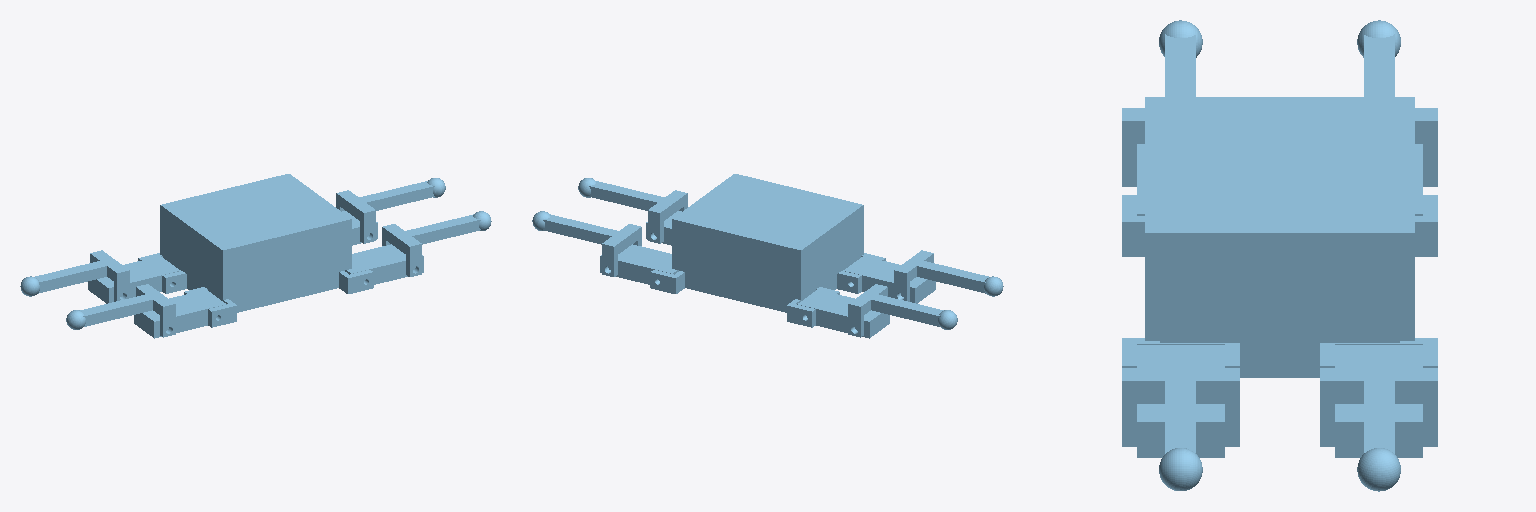
robot.urdf — cubebot:
<!--URDF generated by ONSHAPE BY PTC INC, 1.217-->
<robot name="cubebot">
    <link name="bottom_case">
        <inertial>
            <mass value="0.000193616" />
            <origin xyz="1.64049e-17 -6.01365e-18 -0.0091" rpy="0 -0 0" />
            <inertia ixx="1.44106e-07" ixy="0" ixz="0" iyy="2.1763e-07" iyz="0" izz="3.51047e-07" />
        </inertial>
        <visual>
            <origin xyz="1.52407e-17 -7.2819e-18 -0.0182" rpy="0 -0 0" />
            <geometry>
                <mesh filename="meshes/Bottom_case.stl" scale="1 1 1" />
            </geometry>
            <material name="0.615686_0.811765_0.929412_0.000000_0.000000">
                <color rgba="0.615686 0.811765 0.929412 1" />
            </material>
        </visual>
    </link>
    <link name="foot">
        <inertial>
            <mass value="2.57244e-06" />
            <origin xyz="1.95178e-19 0 0" rpy="0 -0 0" />
            <inertia ixx="7.43435e-11" ixy="0" ixz="0" iyy="7.43435e-11" iyz="0" izz="7.43435e-11" />
        </inertial>
        <visual>
            <origin xyz="-5.20475e-19 0 0" rpy="0 -0 0" />
            <geometry>
                <mesh filename="meshes/Foot.stl" scale="1 1 1" />
            </geometry>
            <material name="0.615686_0.811765_0.929412_0.000000_0.000000">
                <color rgba="0.615686 0.811765 0.929412 1" />
            </material>
        </visual>
    </link>
    <link name="foot_1">
        <inertial>
            <mass value="2.57244e-06" />
            <origin xyz="1.95178e-19 0 0" rpy="0 -0 0" />
            <inertia ixx="7.43435e-11" ixy="0" ixz="0" iyy="7.43435e-11" iyz="0" izz="7.43435e-11" />
        </inertial>
        <visual>
            <origin xyz="-5.20475e-19 0 0" rpy="0 -0 0" />
            <geometry>
                <mesh filename="meshes/Foot.stl" scale="1 1 1" />
            </geometry>
            <material name="0.615686_0.811765_0.929412_0.000000_0.000000">
                <color rgba="0.615686 0.811765 0.929412 1" />
            </material>
        </visual>
    </link>
    <link name="foot_2">
        <inertial>
            <mass value="2.57244e-06" />
            <origin xyz="1.95178e-19 0 0" rpy="0 -0 0" />
            <inertia ixx="7.43435e-11" ixy="0" ixz="0" iyy="7.43435e-11" iyz="0" izz="7.43435e-11" />
        </inertial>
        <visual>
            <origin xyz="-5.20475e-19 0 0" rpy="0 -0 0" />
            <geometry>
                <mesh filename="meshes/Foot.stl" scale="1 1 1" />
            </geometry>
            <material name="0.615686_0.811765_0.929412_0.000000_0.000000">
                <color rgba="0.615686 0.811765 0.929412 1" />
            </material>
        </visual>
    </link>
    <link name="foot_3">
        <inertial>
            <mass value="2.57244e-06" />
            <origin xyz="1.95178e-19 0 0" rpy="0 -0 0" />
            <inertia ixx="7.43435e-11" ixy="0" ixz="0" iyy="7.43435e-11" iyz="0" izz="7.43435e-11" />
        </inertial>
        <visual>
            <origin xyz="-5.20475e-19 0 0" rpy="0 -0 0" />
            <geometry>
                <mesh filename="meshes/Foot.stl" scale="1 1 1" />
            </geometry>
            <material name="0.615686_0.811765_0.929412_0.000000_0.000000">
                <color rgba="0.615686 0.811765 0.929412 1" />
            </material>
        </visual>
    </link>
    <link name="leg_middle_part">
        <inertial>
            <mass value="3.64093e-05" />
            <origin xyz="-0.024 0.017 -8.67362e-18" rpy="0 -0 0" />
            <inertia ixx="4.24573e-09" ixy="0" ixz="0" iyy="1.55246e-08" iyz="0" izz="1.82937e-08" />
        </inertial>
        <visual>
            <origin xyz="-0.024 0.017 -0.00775" rpy="0 -0 0" />
            <geometry>
                <mesh filename="meshes/Leg_middle_part.stl" scale="1 1 1" />
            </geometry>
            <material name="0.615686_0.811765_0.929412_0.000000_0.000000">
                <color rgba="0.615686 0.811765 0.929412 1" />
            </material>
        </visual>
    </link>
    <link name="leg_middle_part_1">
        <inertial>
            <mass value="3.64093e-05" />
            <origin xyz="0.024 0.017 -2.60209e-18" rpy="0 -0 0" />
            <inertia ixx="4.24573e-09" ixy="0" ixz="0" iyy="1.55246e-08" iyz="0" izz="1.82937e-08" />
        </inertial>
        <visual>
            <origin xyz="0.024 0.017 -0.00775" rpy="0 -0 0" />
            <geometry>
                <mesh filename="meshes/Leg_middle_part.stl" scale="1 1 1" />
            </geometry>
            <material name="0.615686_0.811765_0.929412_0.000000_0.000000">
                <color rgba="0.615686 0.811765 0.929412 1" />
            </material>
        </visual>
    </link>
    <link name="leg_middle_part_2">
        <inertial>
            <mass value="3.64093e-05" />
            <origin xyz="0.024 0.017 -2.60209e-18" rpy="0 -0 0" />
            <inertia ixx="4.24573e-09" ixy="0" ixz="0" iyy="1.55246e-08" iyz="0" izz="1.82937e-08" />
        </inertial>
        <visual>
            <origin xyz="0.024 0.017 -0.00775" rpy="0 -0 0" />
            <geometry>
                <mesh filename="meshes/Leg_middle_part.stl" scale="1 1 1" />
            </geometry>
            <material name="0.615686_0.811765_0.929412_0.000000_0.000000">
                <color rgba="0.615686 0.811765 0.929412 1" />
            </material>
        </visual>
    </link>
    <link name="leg_middle_part_3">
        <inertial>
            <mass value="3.64093e-05" />
            <origin xyz="-0.024 -0.017 -8.67362e-18" rpy="0 -0 0" />
            <inertia ixx="4.24573e-09" ixy="0" ixz="0" iyy="1.55246e-08" iyz="0" izz="1.82937e-08" />
        </inertial>
        <visual>
            <origin xyz="-0.024 -0.017 -0.00775" rpy="0 -0 0" />
            <geometry>
                <mesh filename="meshes/Leg_middle_part.stl" scale="1 1 1" />
            </geometry>
            <material name="0.615686_0.811765_0.929412_0.000000_0.000000">
                <color rgba="0.615686 0.811765 0.929412 1" />
            </material>
        </visual>
    </link>
    <link name="part_1">
        <inertial>
            <mass value="9.89486e-06" />
            <origin xyz="-0.0105506 0.0075 -3.36383e-19" rpy="0 1.5708 -0" />
            <inertia ixx="2.21659e-09" ixy="0" ixz="0" iyy="3.02255e-09" iyz="0" izz="1.18511e-09" />
        </inertial>
        <visual>
            <origin xyz="-0.012 0.015 -2.66454e-18" rpy="0 1.5708 -0" />
            <geometry>
                <mesh filename="meshes/Part_1.stl" scale="1 1 1" />
            </geometry>
            <material name="0.615686_0.811765_0.929412_0.000000_0.000000">
                <color rgba="0.615686 0.811765 0.929412 1" />
            </material>
        </visual>
    </link>
    <link name="part_1_1">
        <inertial>
            <mass value="1.62727e-05" />
            <origin xyz="-0.017 0.0216008 -0.0159671" rpy="1.5708 -0 0" />
            <inertia ixx="1.11428e-08" ixy="0" ixz="0" iyy="2.53135e-09" iyz="6.63937e-10" izz="1.25833e-08" />
        </inertial>
        <visual>
            <origin xyz="-0.017 0.076775 -0.017856" rpy="1.5708 -0 0" />
            <geometry>
                <mesh filename="meshes/Part_1_1.stl" scale="1 1 1" />
            </geometry>
            <material name="0.615686_0.811765_0.929412_0.000000_0.000000">
                <color rgba="0.615686 0.811765 0.929412 1" />
            </material>
        </visual>
    </link>
    <link name="part_1_2">
        <inertial>
            <mass value="9.89486e-06" />
            <origin xyz="0.0105506 0.0075 -4.34904e-18" rpy="0 -1.5708 0" />
            <inertia ixx="2.21659e-09" ixy="0" ixz="0" iyy="3.02255e-09" iyz="0" izz="1.18511e-09" />
        </inertial>
        <visual>
            <origin xyz="0.012 0.015 -2.66454e-18" rpy="0 -1.5708 0" />
            <geometry>
                <mesh filename="meshes/Part_1.stl" scale="1 1 1" />
            </geometry>
            <material name="0.615686_0.811765_0.929412_0.000000_0.000000">
                <color rgba="0.615686 0.811765 0.929412 1" />
            </material>
        </visual>
    </link>
    <link name="part_1_3">
        <inertial>
            <mass value="1.62727e-05" />
            <origin xyz="-0.017 -0.0216008 0.0159671" rpy="-1.5708 0 0" />
            <inertia ixx="1.11428e-08" ixy="0" ixz="0" iyy="2.53135e-09" iyz="6.63937e-10" izz="1.25833e-08" />
        </inertial>
        <visual>
            <origin xyz="-0.017 -0.076775 0.017856" rpy="-1.5708 0 0" />
            <geometry>
                <mesh filename="meshes/Part_1_1.stl" scale="1 1 1" />
            </geometry>
            <material name="0.615686_0.811765_0.929412_0.000000_0.000000">
                <color rgba="0.615686 0.811765 0.929412 1" />
            </material>
        </visual>
    </link>
    <link name="part_1_4">
        <inertial>
            <mass value="1.62727e-05" />
            <origin xyz="0.017 -0.0216008 0.0159671" rpy="-1.5708 0 0" />
            <inertia ixx="1.11428e-08" ixy="0" ixz="0" iyy="2.53135e-09" iyz="6.63937e-10" izz="1.25833e-08" />
        </inertial>
        <visual>
            <origin xyz="0.017 -0.076775 0.017856" rpy="-1.5708 0 0" />
            <geometry>
                <mesh filename="meshes/Part_1_1.stl" scale="1 1 1" />
            </geometry>
            <material name="0.615686_0.811765_0.929412_0.000000_0.000000">
                <color rgba="0.615686 0.811765 0.929412 1" />
            </material>
        </visual>
    </link>
    <link name="part_1_5">
        <inertial>
            <mass value="1.62727e-05" />
            <origin xyz="0.017 -0.0216008 0.0159671" rpy="-1.5708 0 0" />
            <inertia ixx="1.11428e-08" ixy="0" ixz="0" iyy="2.53135e-09" iyz="6.63937e-10" izz="1.25833e-08" />
        </inertial>
        <visual>
            <origin xyz="0.017 -0.076775 0.017856" rpy="-1.5708 0 0" />
            <geometry>
                <mesh filename="meshes/Part_1_1.stl" scale="1 1 1" />
            </geometry>
            <material name="0.615686_0.811765_0.929412_0.000000_0.000000">
                <color rgba="0.615686 0.811765 0.929412 1" />
            </material>
        </visual>
    </link>
    <link name="part_1_6">
        <inertial>
            <mass value="9.89486e-06" />
            <origin xyz="0.0105506 0.0075 3.36383e-19" rpy="0 -1.5708 0" />
            <inertia ixx="2.21659e-09" ixy="0" ixz="0" iyy="3.02255e-09" iyz="0" izz="1.18511e-09" />
        </inertial>
        <visual>
            <origin xyz="0.012 0.015 2.66454e-18" rpy="0 -1.5708 0" />
            <geometry>
                <mesh filename="meshes/Part_1.stl" scale="1 1 1" />
            </geometry>
            <material name="0.615686_0.811765_0.929412_0.000000_0.000000">
                <color rgba="0.615686 0.811765 0.929412 1" />
            </material>
        </visual>
    </link>
    <link name="part_1_7">
        <inertial>
            <mass value="9.89486e-06" />
            <origin xyz="-0.0105506 0.0075 -3.36383e-19" rpy="0 1.5708 -0" />
            <inertia ixx="2.21659e-09" ixy="0" ixz="0" iyy="3.02255e-09" iyz="0" izz="1.18511e-09" />
        </inertial>
        <visual>
            <origin xyz="-0.012 0.015 -2.66454e-18" rpy="0 1.5708 -0" />
            <geometry>
                <mesh filename="meshes/Part_1.stl" scale="1 1 1" />
            </geometry>
            <material name="0.615686_0.811765_0.929412_0.000000_0.000000">
                <color rgba="0.615686 0.811765 0.929412 1" />
            </material>
        </visual>
    </link>
    <link name="root" />
    <link name="top_case">
        <inertial>
            <mass value="0.00060375" />
            <origin xyz="1.40295e-18 0 0.023" rpy="0 -0 0" />
            <inertia ixx="6.61157e-07" ixy="0" ixz="0" iyy="8.92594e-07" iyz="0" izz="1.34083e-06" />
        </inertial>
        <visual>
            <origin xyz="0 0 0" rpy="0 -0 0" />
            <geometry>
                <mesh filename="meshes/Top_case.stl" scale="1 1 1" />
            </geometry>
            <material name="0.615686_0.811765_0.929412_0.000000_0.000000">
                <color rgba="0.615686 0.811765 0.929412 1" />
            </material>
        </visual>
    </link>
    <joint name="fastened_5" type="fixed">
        <origin xyz="0.017 -0.076775 0.017856" rpy="0 -1.5708 -1.5708" />
        <axis xyz="0 0 1" />
        <parent link="part_1_4" />
        <child link="foot_1" />
    </joint>
    <joint name="fastened_6" type="fixed">
        <origin xyz="0.017 -0.076775 0.017856" rpy="1.5708 -3.67911e-16 3.14159" />
        <axis xyz="0 0 1" />
        <parent link="part_1_5" />
        <child link="foot_2" />
    </joint>
    <joint name="fastened_7" type="fixed">
        <origin xyz="-0.017 -0.076775 0.017856" rpy="0 1.5708 1.5708" />
        <axis xyz="0 0 1" />
        <parent link="part_1_3" />
        <child link="foot" />
    </joint>
    <joint name="fastened_8" type="fixed">
        <origin xyz="-0.017 0.076775 -0.017856" rpy="0 -1.5708 1.5708" />
        <axis xyz="0 0 1" />
        <parent link="part_1_1" />
        <child link="foot_3" />
    </joint>
    <joint name="fastened_9" type="fixed">
        <origin xyz="4.05808e-18 -6.59589e-18 1.73472e-18" rpy="0 -0 0" />
        <axis xyz="0 0 1" />
        <parent link="top_case" />
        <child link="bottom_case" />
    </joint>
    <joint name="fixed_node_to_root_joint" type="fixed">
        <origin xyz="-3.46945e-18 1.38778e-17 -0.005" rpy="0 -0 0" />
        <axis xyz="0 0 1" />
        <parent link="root" />
        <child link="top_case" />
    </joint>
    <joint name="revolute_1" type="continuous">
        <origin xyz="-0.048 -0.034 -6.93889e-18" rpy="2.90163e-14 2.92384e-14 -1.5708" />
        <axis xyz="-1 0 0" />
        <parent link="leg_middle_part_3" />
        <child link="part_1_3" />
    </joint>
    <joint name="revolute_10" type="continuous">
        <origin xyz="0.0465 -0.0385 -0.0182" rpy="1.5708 -2.46519e-32 -2.22045e-16" />
        <axis xyz="0 -1 0" />
        <parent link="bottom_case" />
        <child link="part_1_2" />
    </joint>
    <joint name="revolute_11" type="continuous">
        <origin xyz="-0.025 0.0075 0.017" rpy="-1.5708 -2.22045e-16 -3.08149e-31" />
        <axis xyz="-0 -1 -0" />
        <parent link="part_1_7" />
        <child link="leg_middle_part" />
    </joint>
    <joint name="revolute_12" type="continuous">
        <origin xyz="0.025 0.0075 0.017" rpy="-1.5708 3.04086e-16 1.47911e-31" />
        <axis xyz="0 -1 0" />
        <parent link="part_1_2" />
        <child link="leg_middle_part_1" />
    </joint>
    <joint name="revolute_2" type="continuous">
        <origin xyz="-0.048 -3.17107e-15 -1.73472e-17" rpy="3.14159 -1.38778e-16 -1.5708" />
        <axis xyz="-1 0 0" />
        <parent link="leg_middle_part" />
        <child link="part_1_1" />
    </joint>
    <joint name="revolute_3" type="continuous">
        <origin xyz="0.048 0 1.04083e-17" rpy="-4.90265e-15 6.08855e-15 1.5708" />
        <axis xyz="1 0 0" />
        <parent link="leg_middle_part_1" />
        <child link="part_1_4" />
    </joint>
    <joint name="revolute_4" type="continuous">
        <origin xyz="0.048 -3.46945e-18 3.46945e-18" rpy="-5.74213e-15 5.52008e-15 1.5708" />
        <axis xyz="1 0 0" />
        <parent link="leg_middle_part_2" />
        <child link="part_1_5" />
    </joint>
    <joint name="revolute_5" type="continuous">
        <origin xyz="0.0465 0.0385 -0.0182" rpy="1.5708 1.2326e-32 1.66533e-16" />
        <axis xyz="0 -1 0" />
        <parent link="bottom_case" />
        <child link="part_1_6" />
    </joint>
    <joint name="revolute_6" type="continuous">
        <origin xyz="0.025 0.0075 0.017" rpy="-1.5708 -1.65311e-16 3.33067e-16" />
        <axis xyz="0 -1 0" />
        <parent link="part_1_6" />
        <child link="leg_middle_part_2" />
    </joint>
    <joint name="revolute_7" type="continuous">
        <origin xyz="-0.0465 0.0385 -0.0182" rpy="1.5708 2.46519e-32 2.22045e-16" />
        <axis xyz="0 -1 0" />
        <parent link="bottom_case" />
        <child link="part_1" />
    </joint>
    <joint name="revolute_8" type="continuous">
        <origin xyz="-0.025 0.0075 -0.017" rpy="-1.5708 -2.22045e-16 -2.46519e-32" />
        <axis xyz="-0 1 -0" />
        <parent link="part_1" />
        <child link="leg_middle_part_3" />
    </joint>
    <joint name="revolute_9" type="continuous">
        <origin xyz="-0.0465 -0.0385 -0.0182" rpy="1.5708 2.46519e-32 2.22045e-16" />
        <axis xyz="0 -1 0" />
        <parent link="bottom_case" />
        <child link="part_1_7" />
    </joint>
</robot>

--- What the picture shows (computed from the rendered views, not written in the file) ---
The picture shows the robot from 3 angles, left to right: view 1: azimuth 30°, elevation 25°; view 2: azimuth 150°, elevation 25°; view 3: azimuth 270°, elevation 25°; orthographic projection.
Model cubebot with 19 links and 18 joints (12 continuous, 6 fixed), rooted at root, posed every joint at zero.
Links seen in each view (by area): view 1: top_case, part_1_4, part_1_5, part_1_1, part_1_3, leg_middle_part, bottom_case, leg_middle_part_3, leg_middle_part_1, part_1_7, part_1_2, part_1; view 2: top_case, part_1_5, part_1_4, part_1_3, part_1_1, leg_middle_part_3, bottom_case, leg_middle_part, leg_middle_part_2, part_1, part_1_6, part_1_7; view 3: top_case, part_1_5, part_1_4, leg_middle_part_1, leg_middle_part_2, part_1_1, part_1_3, bottom_case, foot_1, foot_2, part_1, part_1_7 (+6 smaller).
Boxes of the visible links, box(x1,y1,x2,y2) form: top_case: box(160, 174, 351, 299); part_1_4: box(382, 214, 480, 276); part_1_5: box(336, 181, 434, 243); part_1_1: box(80, 284, 175, 337); part_1_3: box(35, 250, 129, 301); leg_middle_part: box(134, 290, 226, 338); bottom_case: box(187, 272, 338, 312); leg_middle_part_3: box(88, 256, 180, 303); leg_middle_part_1: box(345, 244, 423, 284); part_1_7: box(184, 287, 236, 327); part_1_2: box(339, 270, 373, 293); part_1: box(138, 253, 186, 293); top_case: box(672, 174, 863, 299); part_1_5: box(543, 214, 641, 276); part_1_4: box(588, 181, 687, 243); part_1_3: box(848, 284, 943, 337); part_1_1: box(894, 250, 988, 301); leg_middle_part_3: box(797, 290, 889, 338); bottom_case: box(685, 272, 836, 312); leg_middle_part: box(843, 256, 935, 303); leg_middle_part_2: box(600, 244, 678, 284); part_1: box(787, 287, 839, 327); part_1_6: box(650, 270, 684, 293); part_1_7: box(837, 253, 885, 293); top_case: box(1145, 97, 1414, 340); part_1_5: box(1320, 368, 1437, 453); part_1_4: box(1122, 368, 1239, 453); leg_middle_part_1: box(1137, 345, 1224, 457); leg_middle_part_2: box(1335, 345, 1422, 457); part_1_1: box(1122, 34, 1195, 186); part_1_3: box(1364, 34, 1437, 186); bottom_case: box(1160, 341, 1399, 377); foot_1: box(1159, 448, 1202, 490); foot_2: box(1357, 448, 1400, 491); part_1: box(1415, 195, 1437, 256); part_1_7: box(1122, 195, 1144, 256).
Size in the robot's own frame: 0.4095 by 0.123 by 0.0645 metres.
Meshes: 6 distinct files referenced, 18 mesh visuals loaded (6 binary STL).
